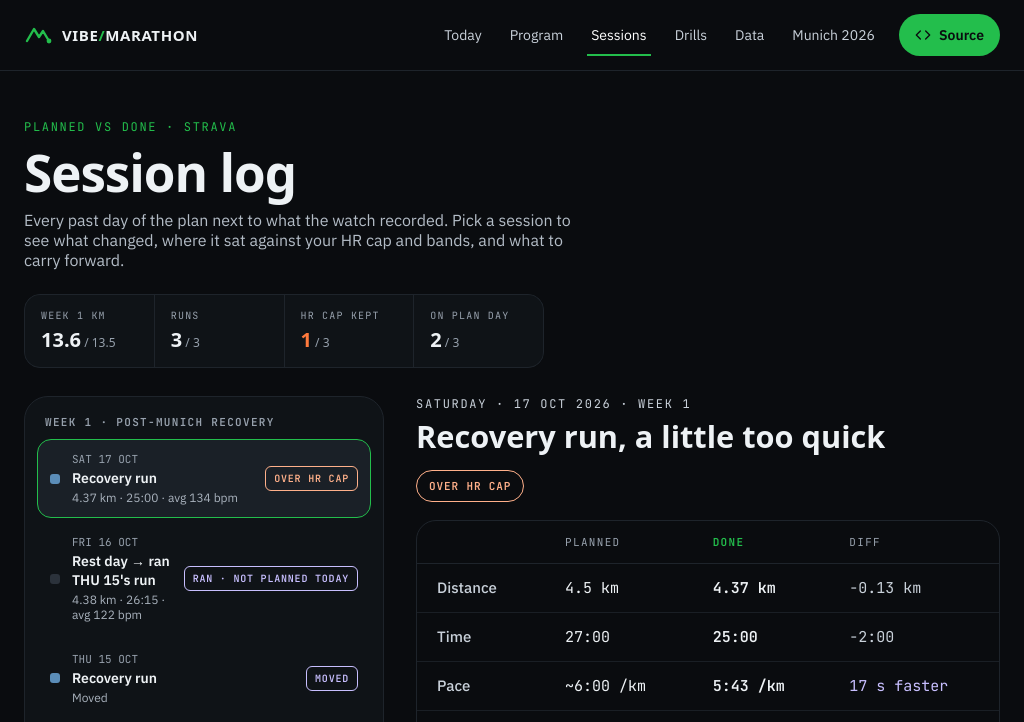
Test: Sessions page › selects a moved session
Click the button "THU 15 OCT Recovery run Moved MOVED".
click(105, 659)  # box [37, 639, 371, 718]
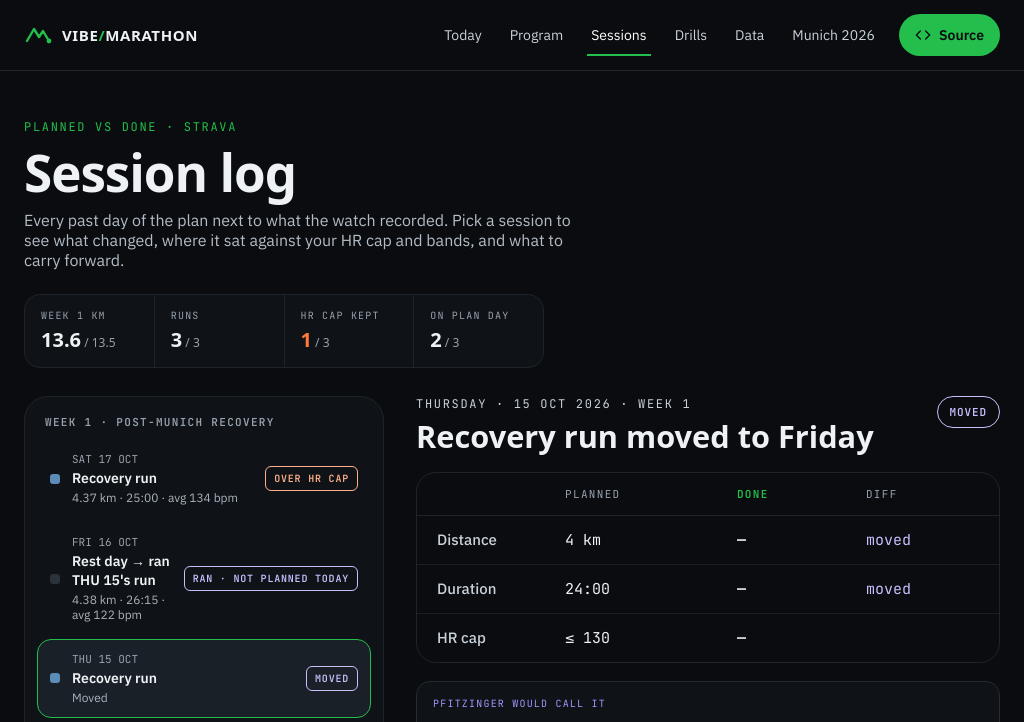
Result: the heading "Recovery run moved to Friday" is shown at [416, 420, 874, 454]
